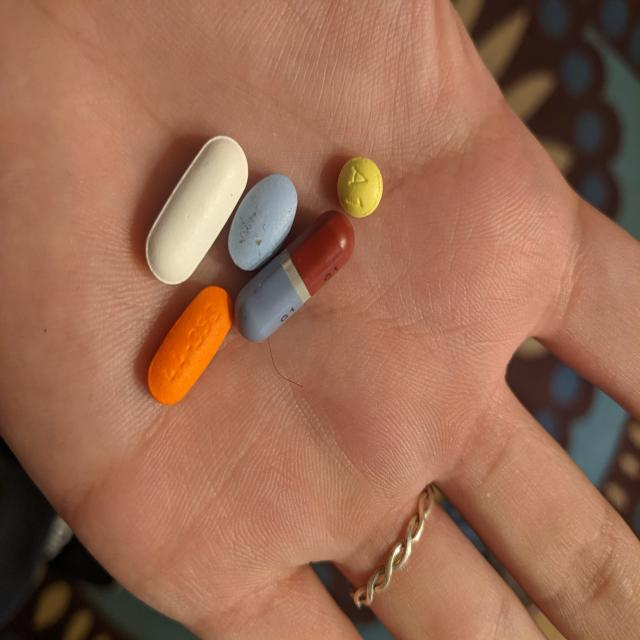non-organic waste: (233, 208, 357, 345), (144, 133, 249, 286), (146, 284, 235, 406), (226, 170, 300, 272), (336, 154, 384, 218)
